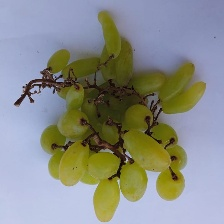grapes: (17, 21, 186, 221)
